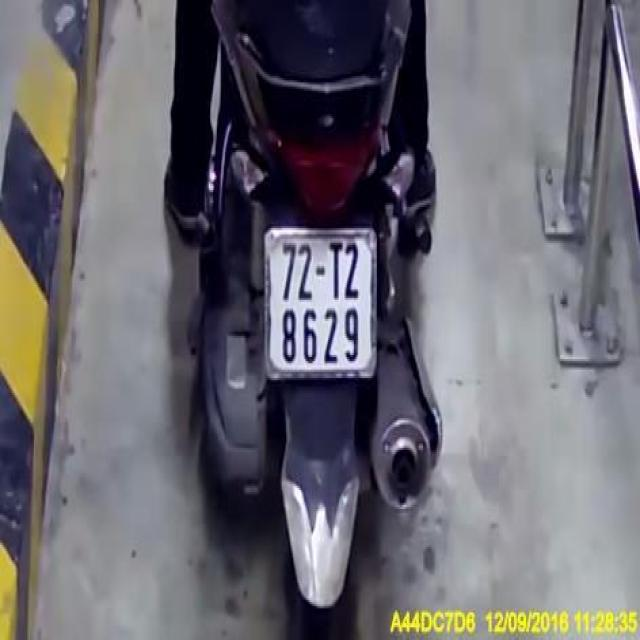bien_so: (260, 224, 380, 382)
